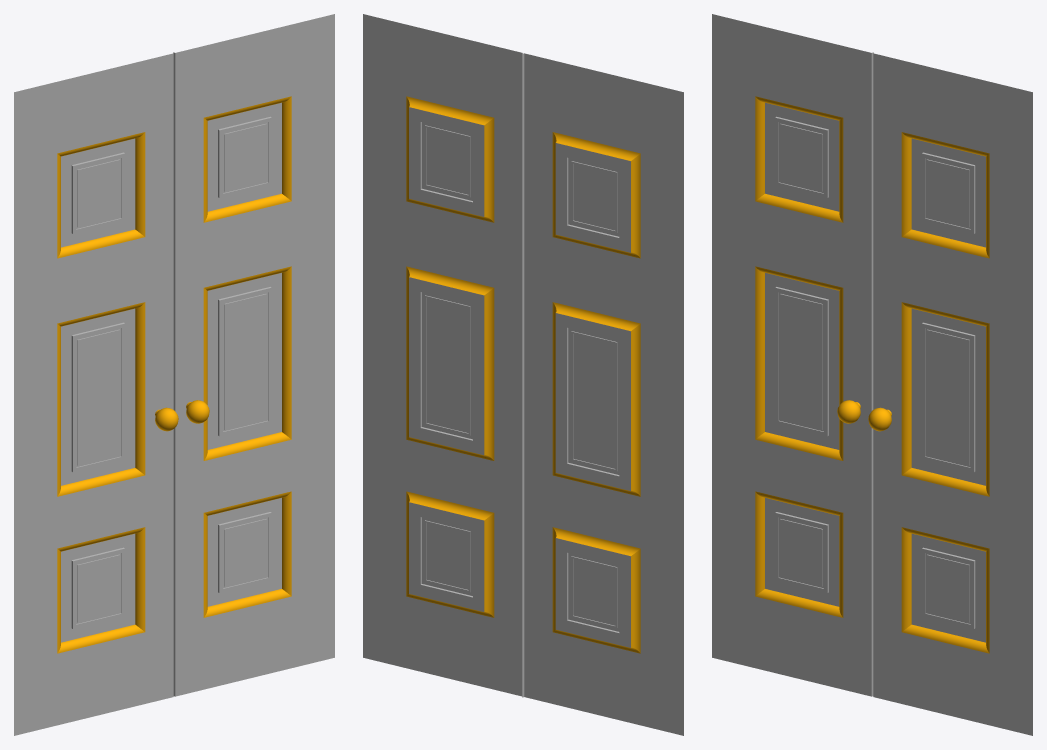
Rendered from door_mesh.fbx.
The picture shows the model from 3 angles, left to right: view 1: azimuth 30°, elevation 25°; view 2: azimuth 150°, elevation 25°; view 3: azimuth 330°, elevation 25°; orthographic projection.
Visible parts, largest first — view 1: door; view 2: door; view 3: door.
Boxes of the visible parts, x1,y1,x2,y2 form: door: (14, 14, 334, 735); door: (363, 14, 683, 735); door: (712, 14, 1032, 735).
Size of the model in its own units: 1.23 by 2.37 by 0.1156.
